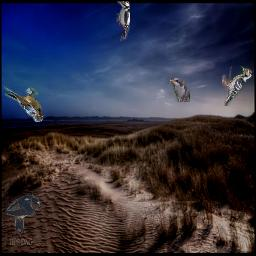Cuckoo: (170, 78, 190, 102)
Swallow: (4, 86, 44, 122), (6, 193, 40, 233)
Woodpecker: (222, 66, 252, 106), (116, 1, 130, 41)
